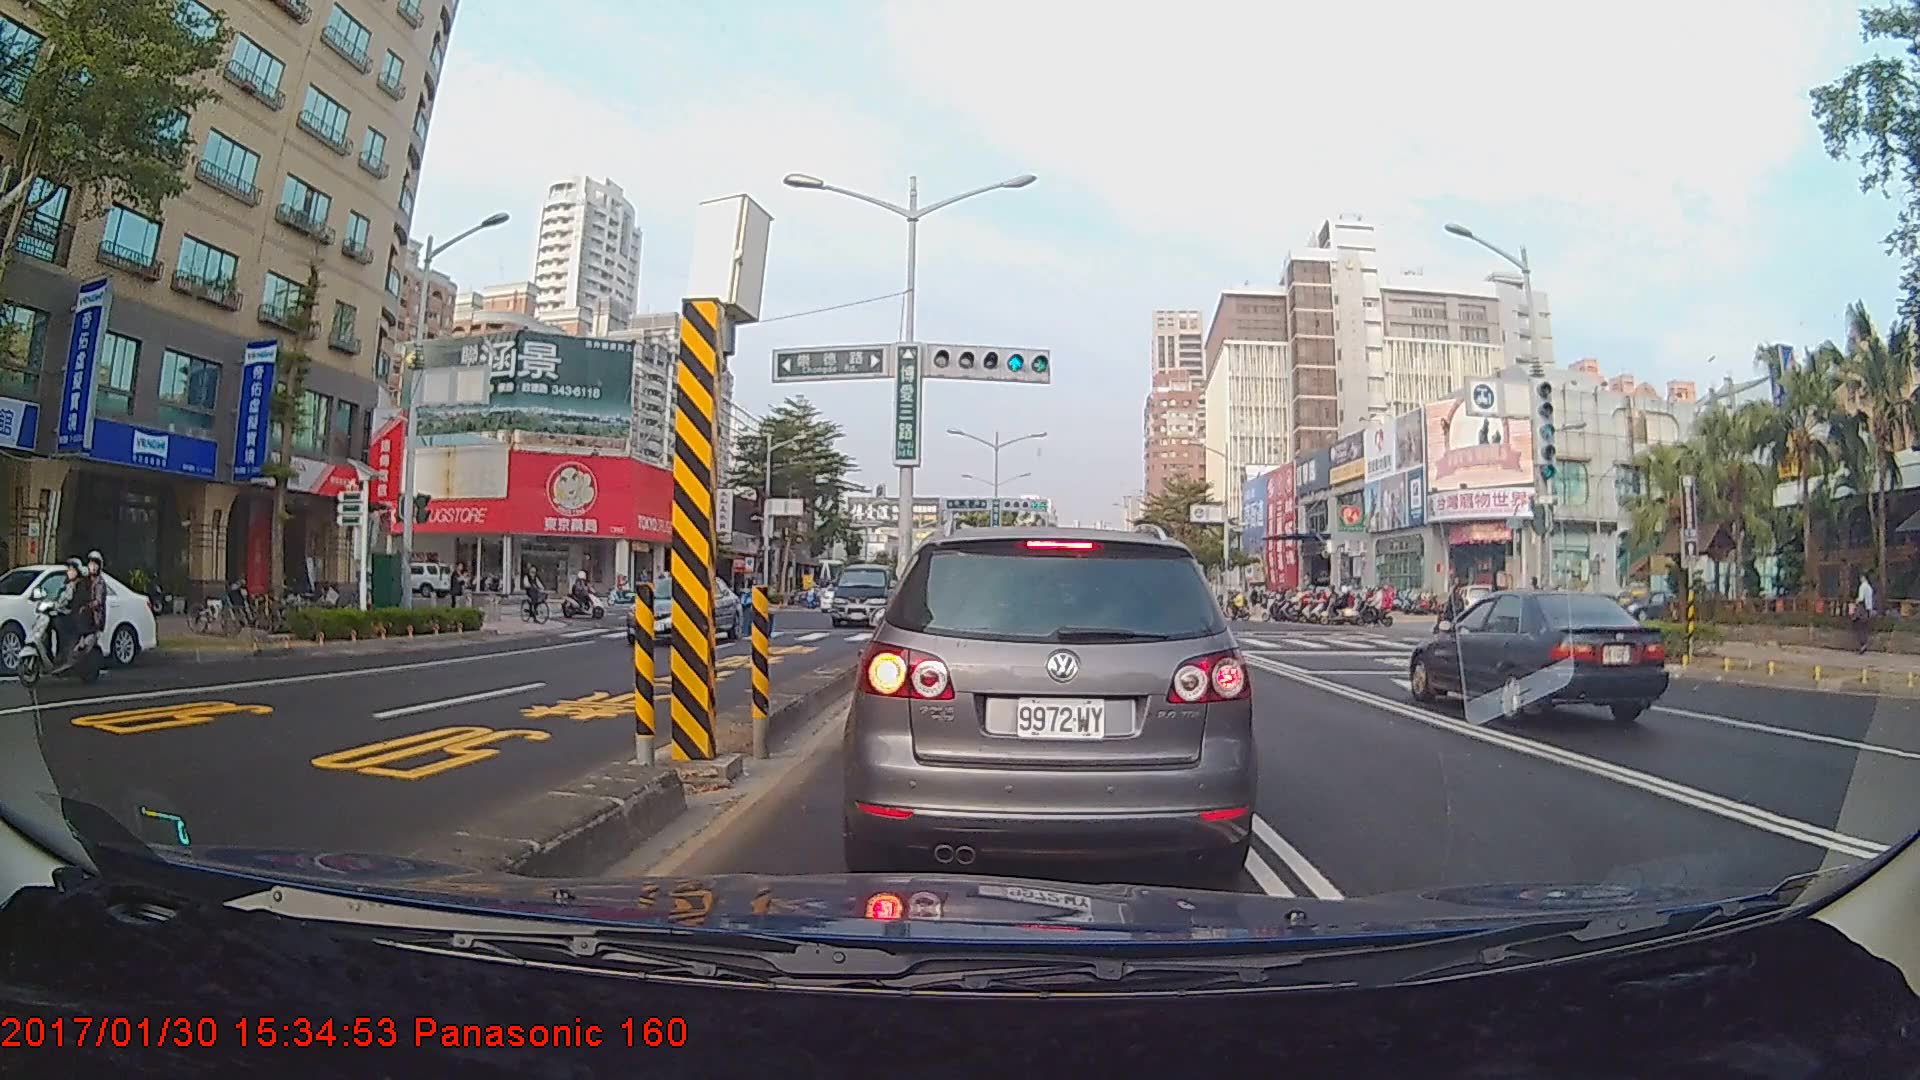pedestrian: (1856, 574, 1877, 654), (445, 558, 468, 621), (1484, 579, 1509, 637)
rider: (16, 555, 113, 691), (562, 568, 613, 625), (518, 559, 553, 629)
vehicle: (852, 524, 1246, 884), (1407, 585, 1666, 727), (0, 561, 156, 671), (624, 574, 740, 646), (828, 561, 899, 629)
